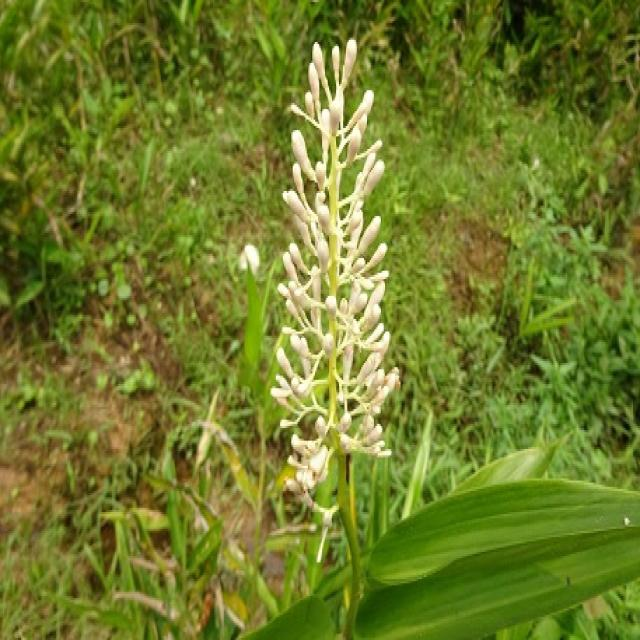Aquatic-Ginger: (270, 38, 400, 495)
